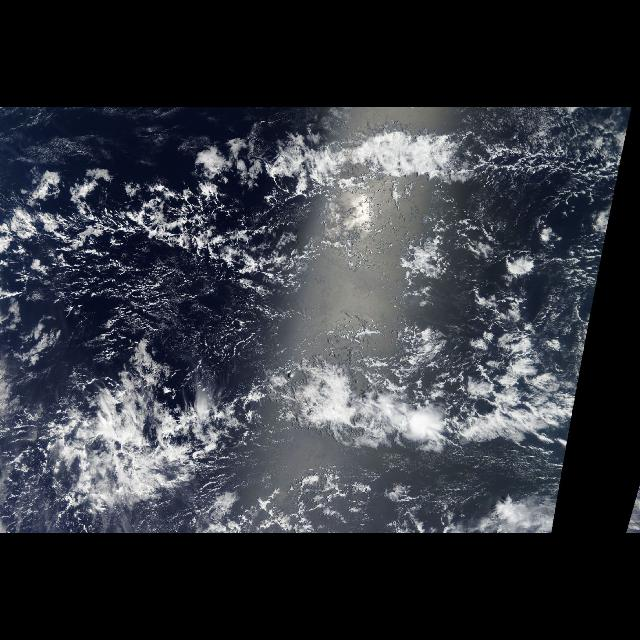Fish: (21, 342, 547, 520), (2, 122, 472, 292)
Gravel: (58, 246, 308, 356), (469, 114, 623, 196)
Sugar: (0, 108, 198, 174)
